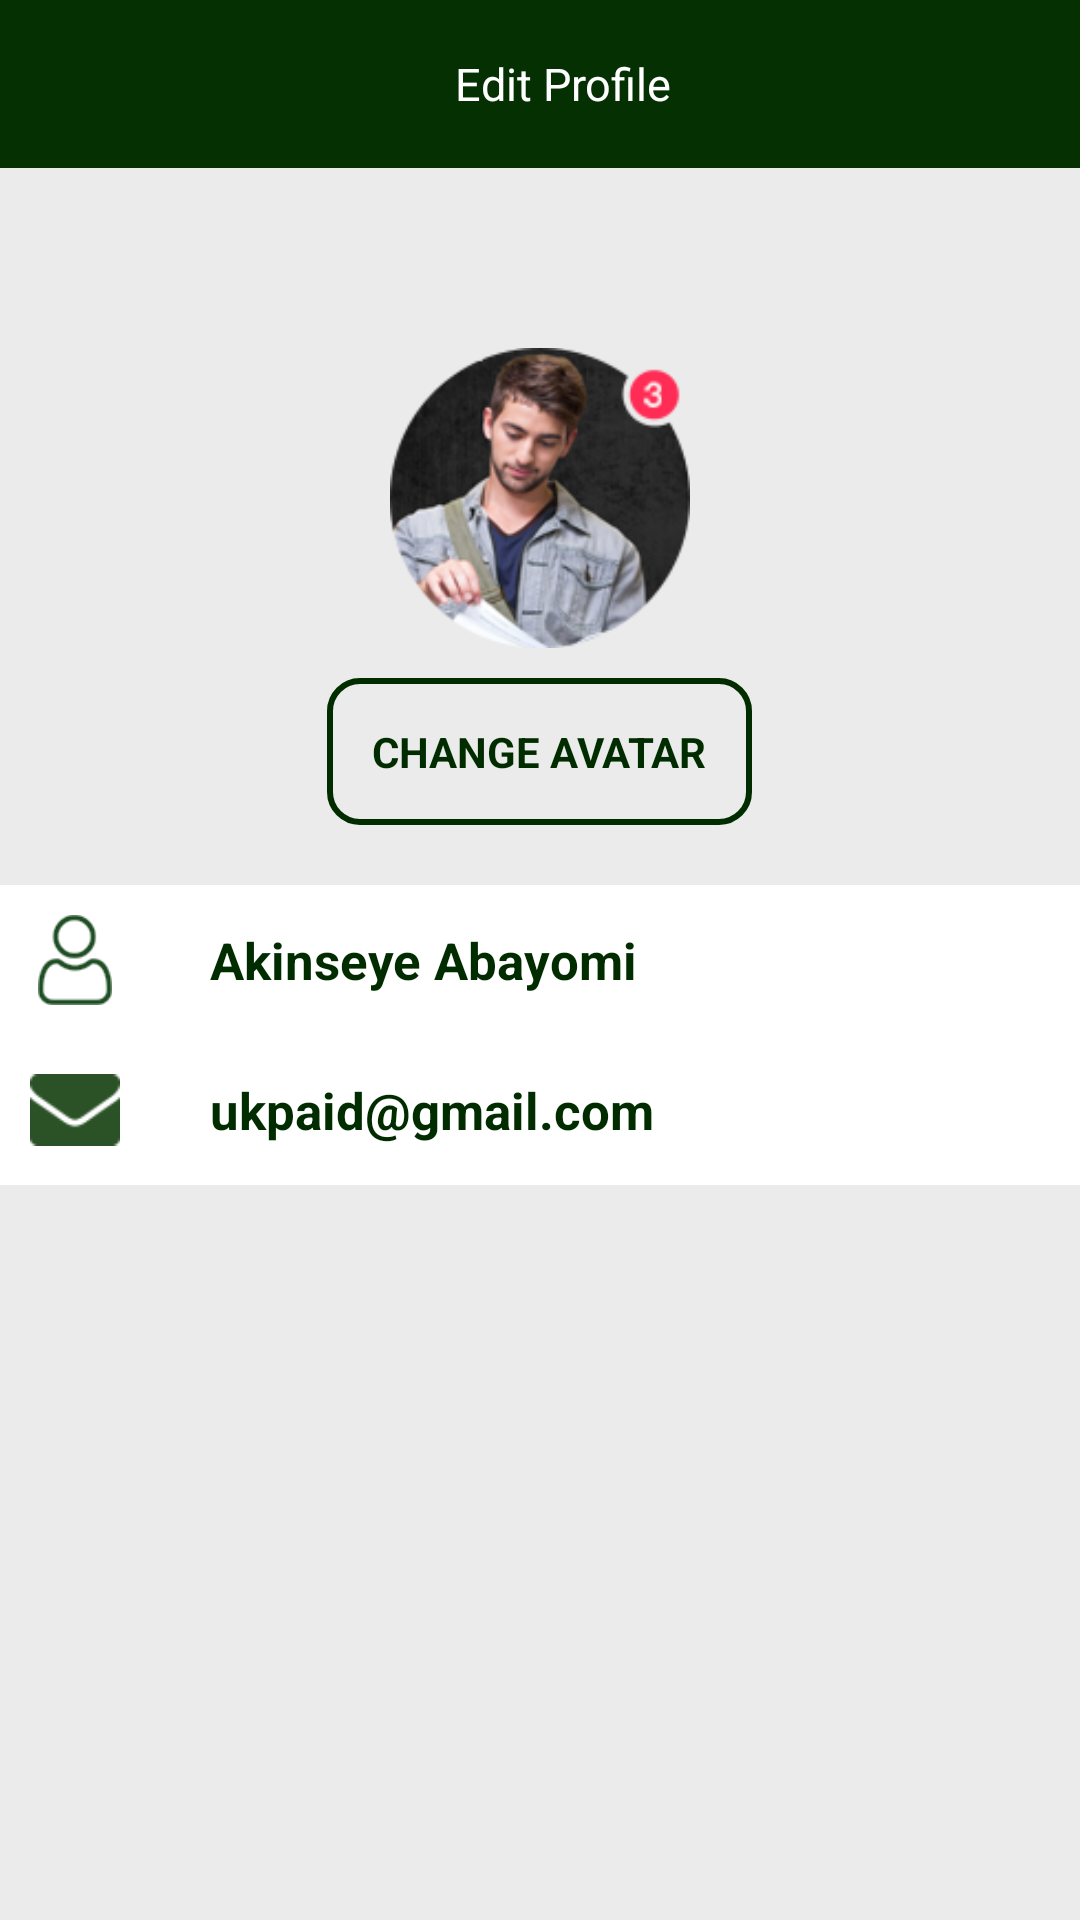

Screen size 1080 x 1920. Icon name, then its center in pixels as (x=x, y=y):
profile: (x=75, y=960)
